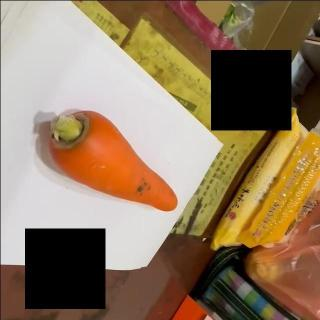carrot: (47, 110, 177, 213)
